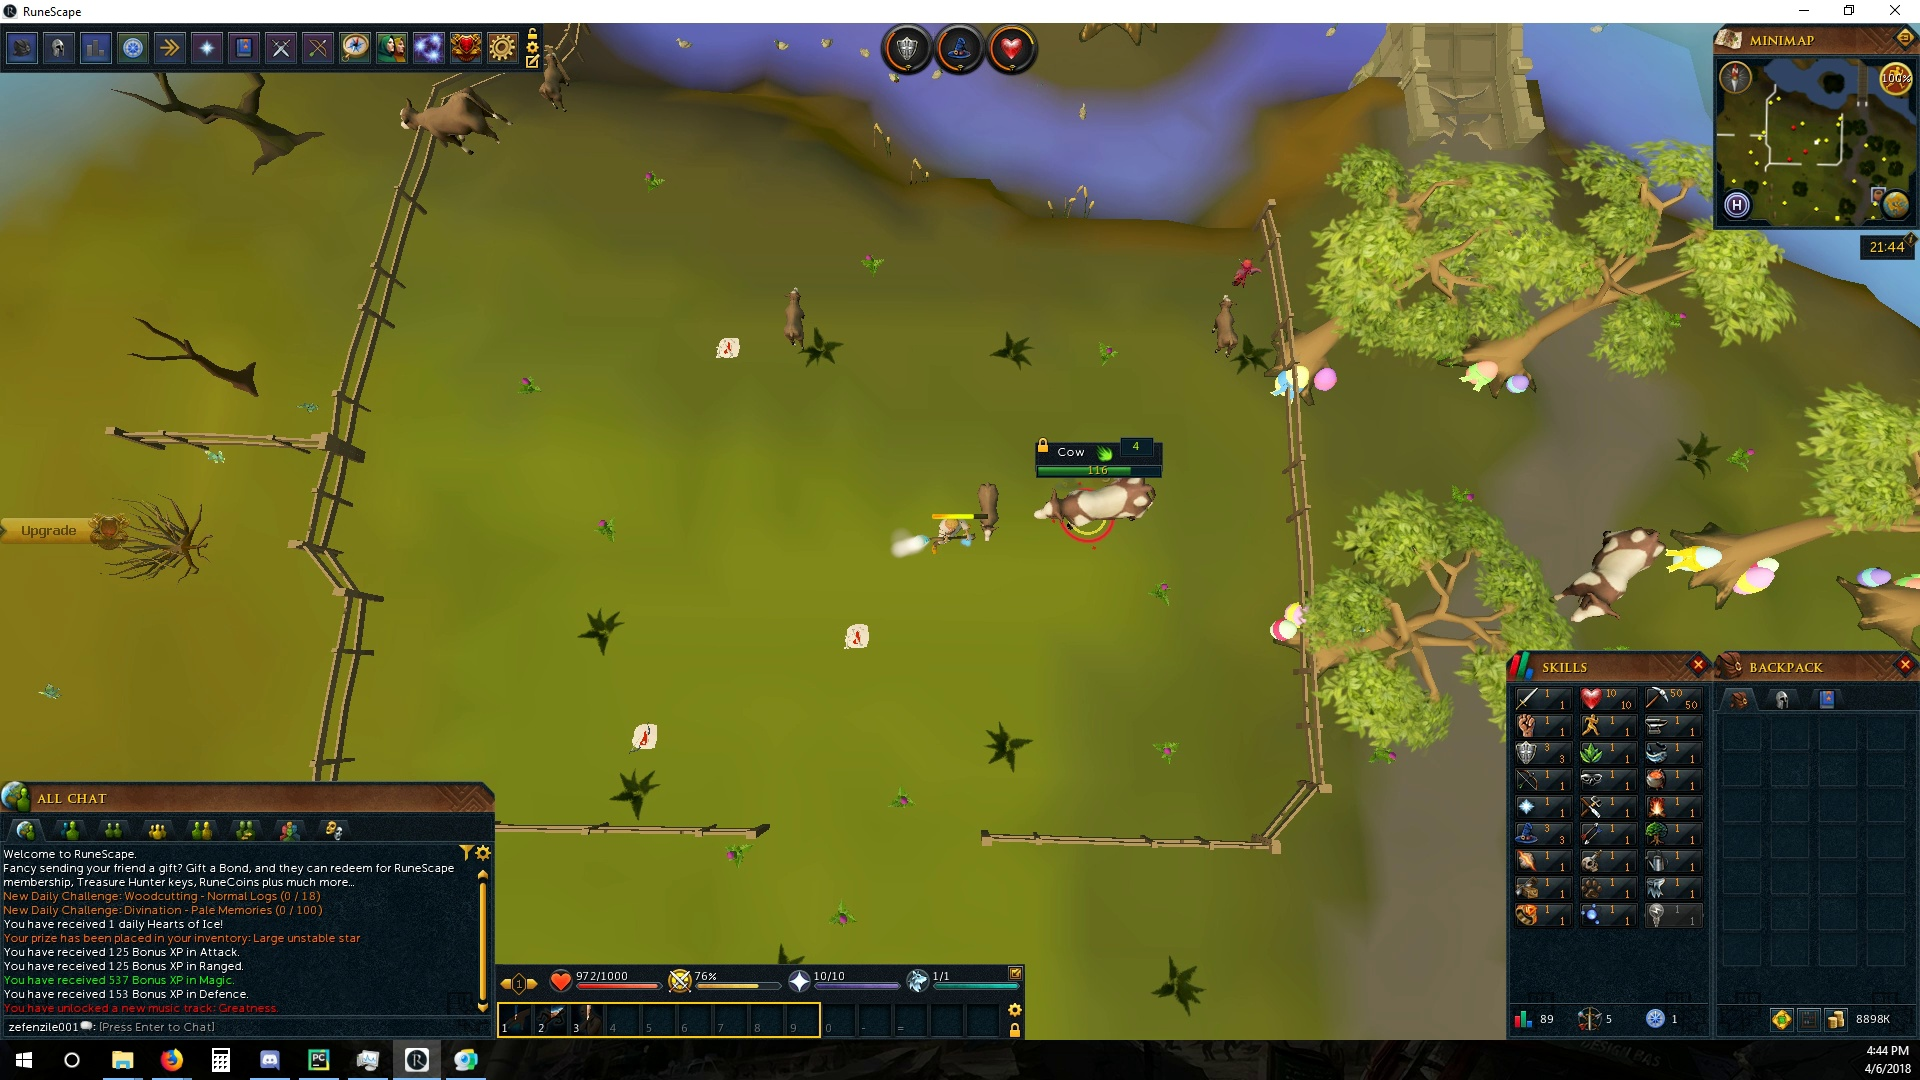calf: (1211, 291, 1244, 360), (975, 476, 1002, 545), (781, 284, 807, 349)
cow: (1552, 524, 1668, 626), (396, 86, 516, 164), (1033, 476, 1160, 535)
cow_drop: (626, 717, 659, 754), (843, 622, 873, 651), (713, 338, 746, 360)
